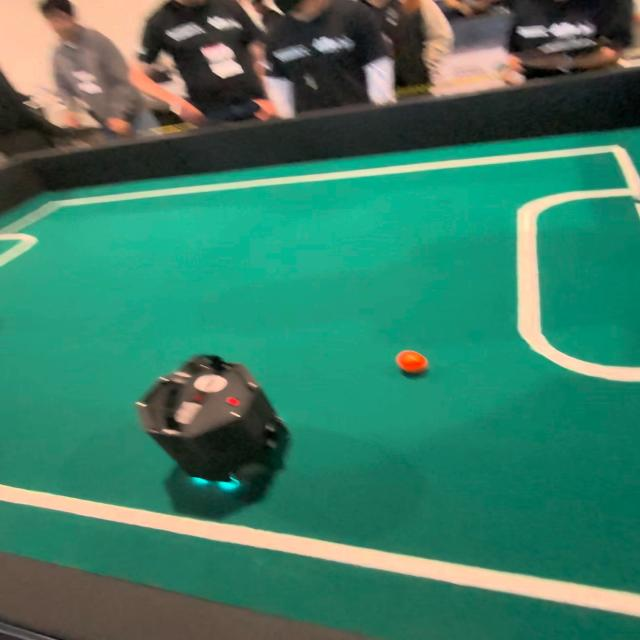Robot: (141, 346, 296, 510)
pelota: (396, 351, 431, 376)
